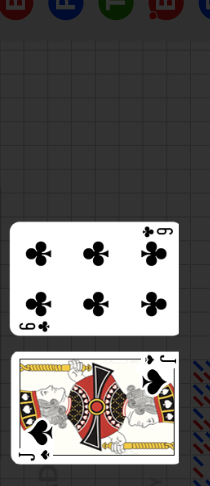6C: (140, 225, 175, 239), (18, 318, 52, 332)
JS: (130, 353, 177, 397), (10, 420, 56, 464)
